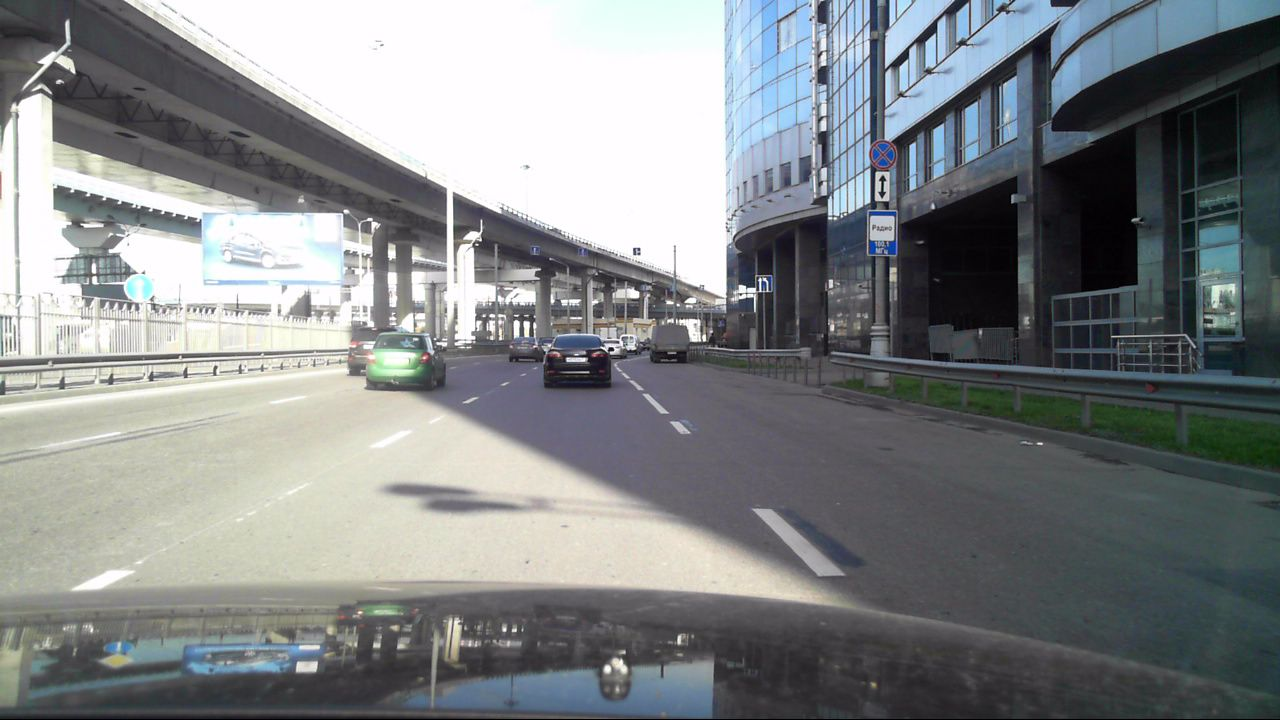No Parking: (869, 140, 896, 169)
